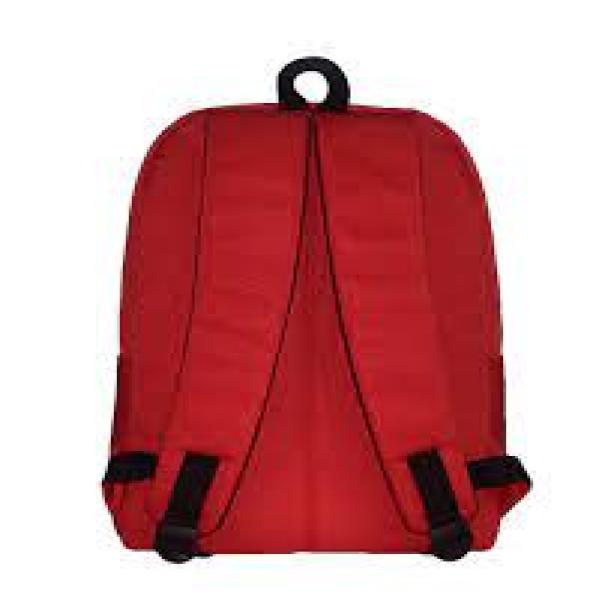Tas: (104, 91, 516, 561)
